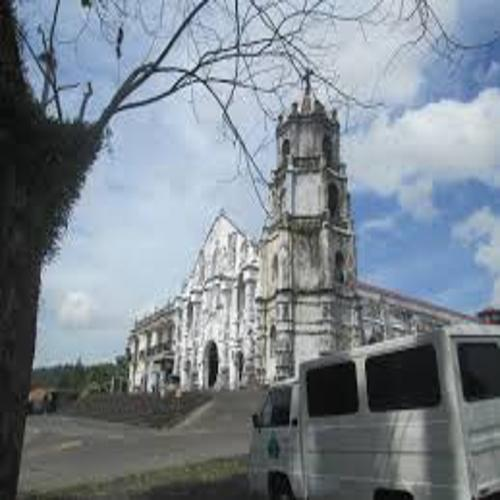Daraga Church: (176, 67, 372, 399)
